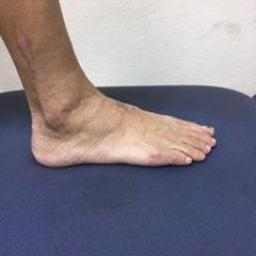Lateral View -Right Foot-: (14, 75, 221, 179)
